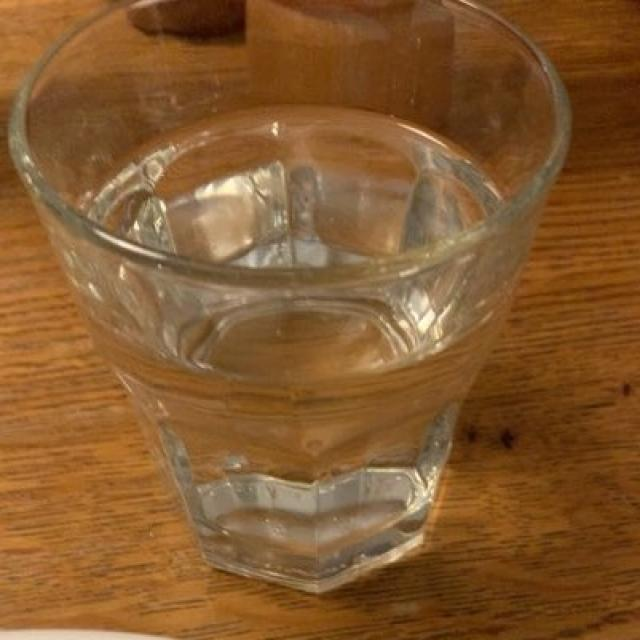water: (89, 111, 476, 270)
